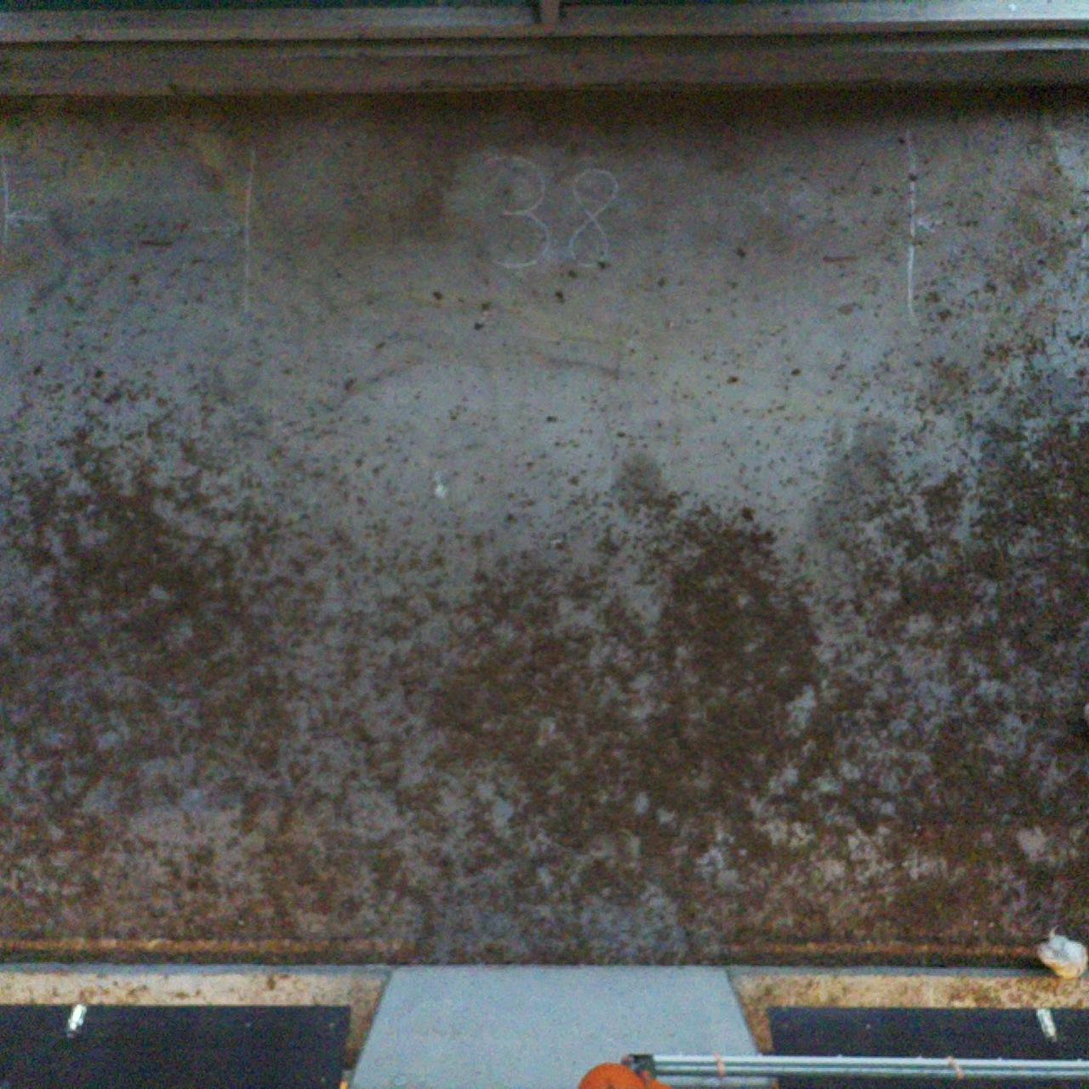chicken: (1029, 921, 1089, 984)
